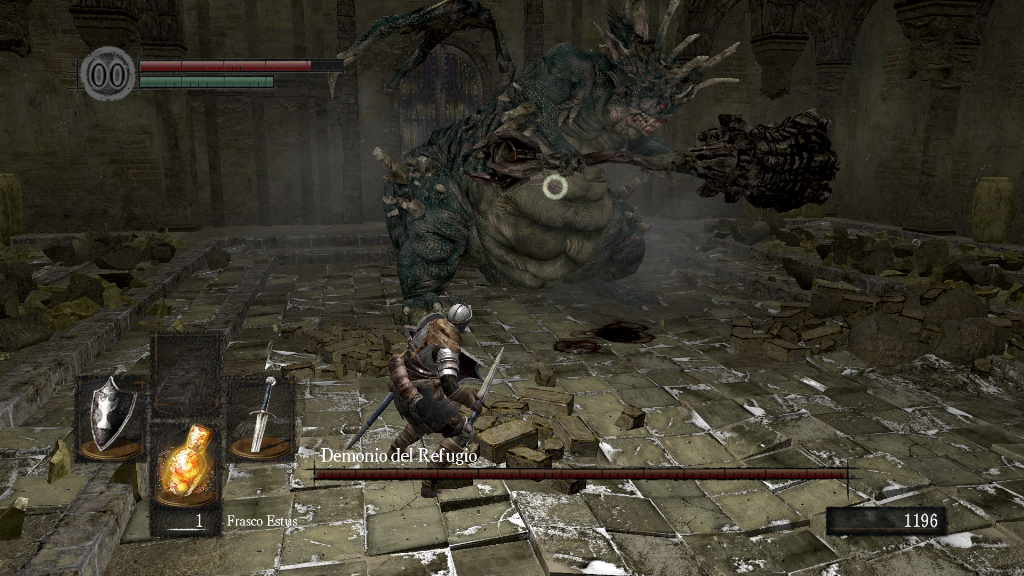asylumDemon: (327, 1, 848, 331)
bossHP: (314, 469, 847, 479)
health: (138, 58, 343, 71)
humanity: (80, 45, 136, 102)
player: (387, 302, 506, 497)
souls: (825, 506, 945, 536)
stamina: (138, 74, 274, 88)
